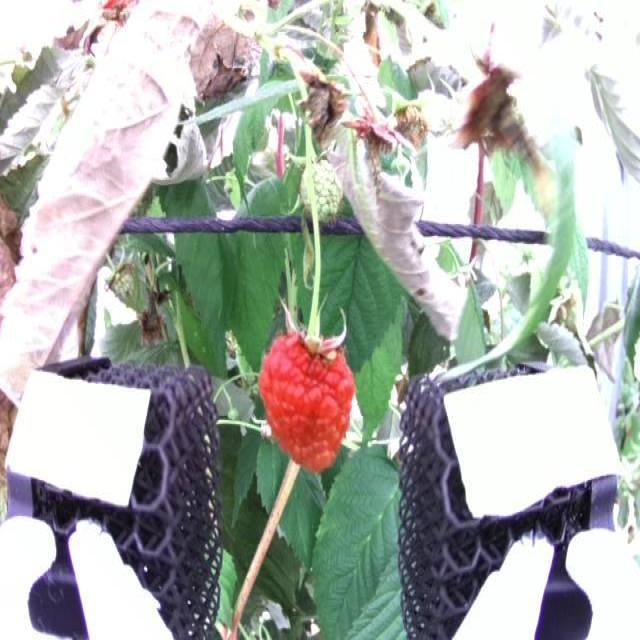Riped berries: (258, 318, 367, 474)
